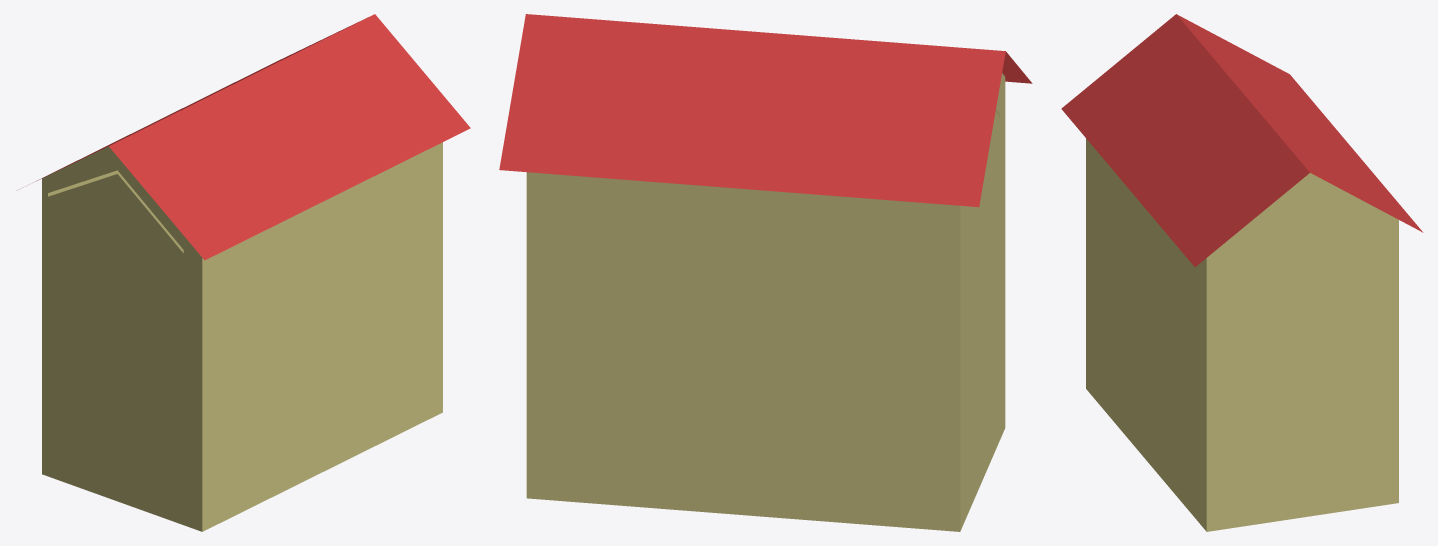
The picture shows the model from 3 angles, left to right: view 1: azimuth 30°, elevation 25°; view 2: azimuth 150°, elevation 25°; view 3: azimuth 270°, elevation 25°; orthographic projection. The views are drawn at different scales.
Size of the model in its own units: 11.85 by 9.4 by 10.07.
